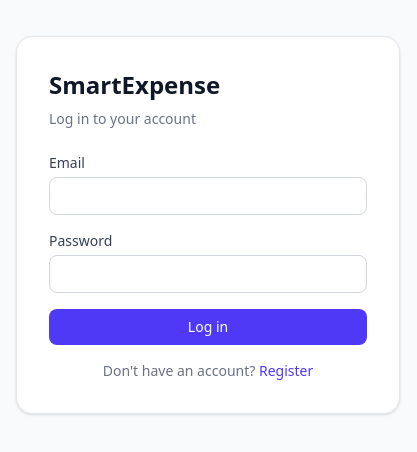
Scenario: LoginPage › shows validation errors when submitted empty
The width and height of the screenshot is (417, 452).
Click the button "Log in" at coordinates (208, 327), box [49,309,367,345]
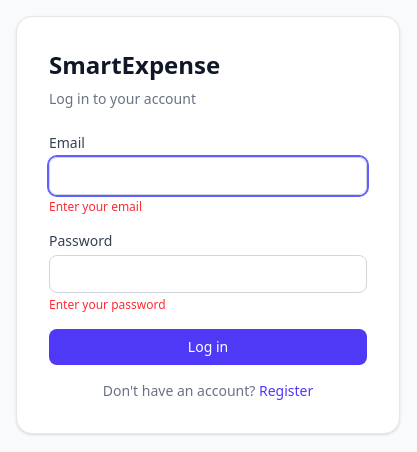
expect the text "Enter your email" is shown: met, box [49,198,142,215]
expect the text "Enter your password" is shown: met, box [49,296,166,313]
